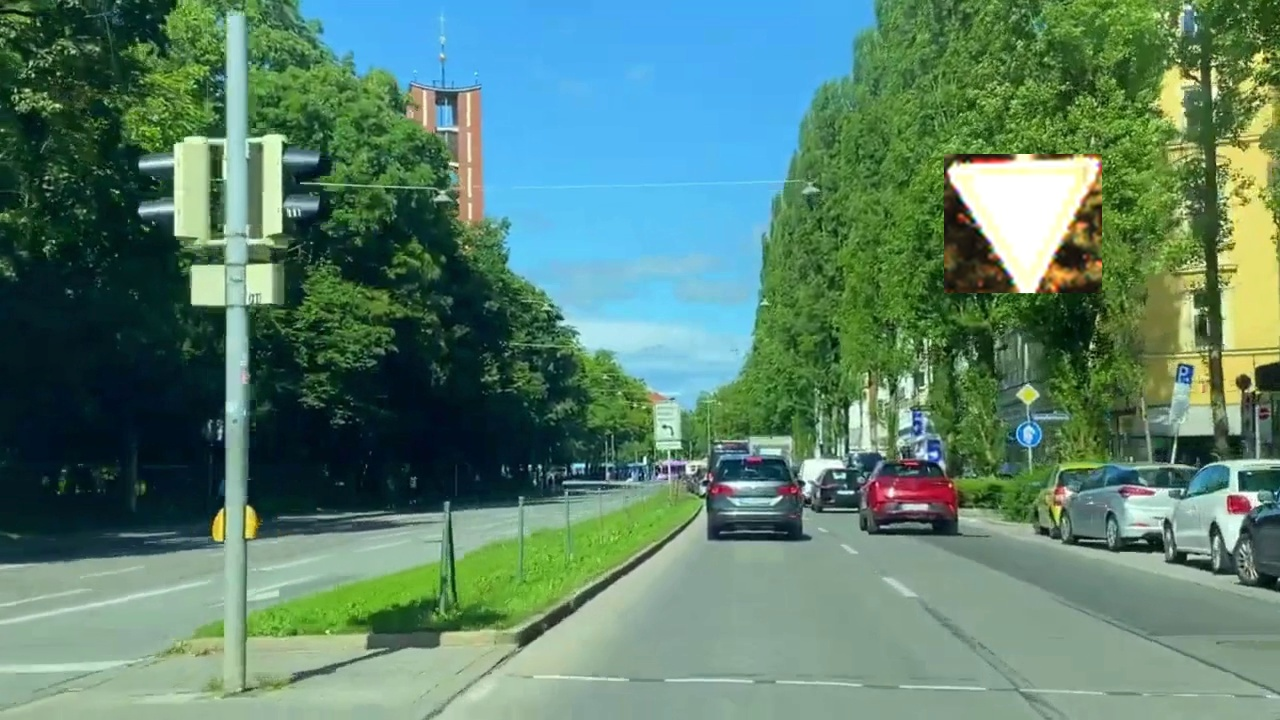Yield: (944, 154, 1102, 293)
